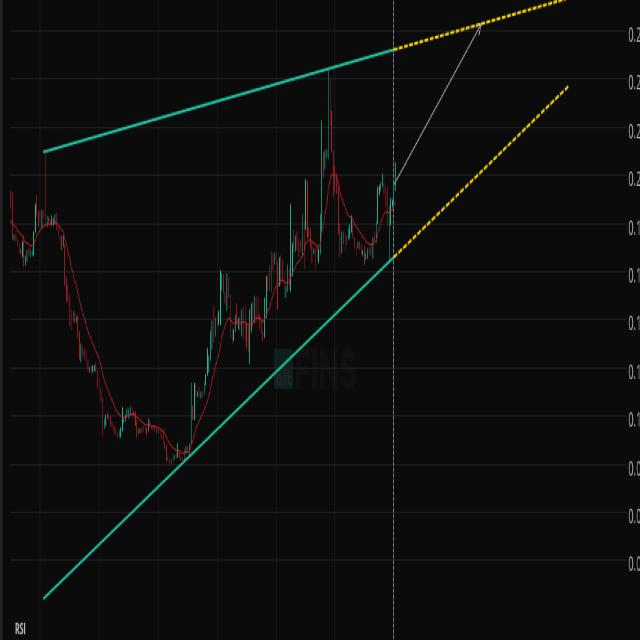Rising-Wedge: (13, 47, 459, 605)
